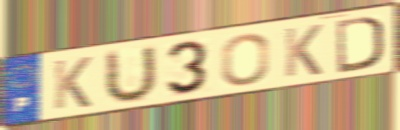3: (163, 37, 214, 97)
D: (334, 14, 386, 75)
K: (282, 22, 325, 80), (52, 55, 94, 112)
O: (219, 31, 272, 88)
U: (101, 42, 159, 107)
